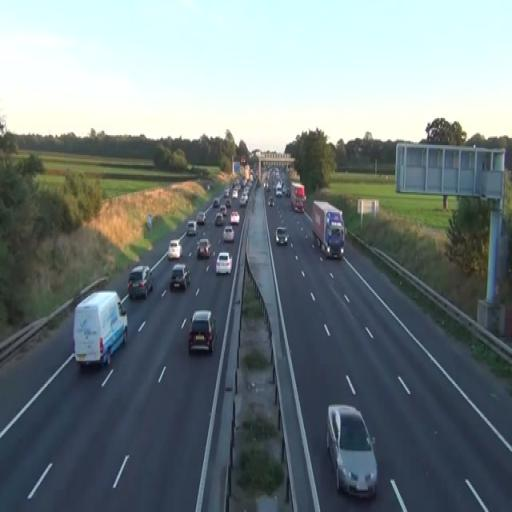Car: (326, 405, 378, 500), (187, 310, 218, 354), (128, 265, 154, 300), (170, 264, 191, 291), (216, 251, 232, 275), (196, 238, 212, 260), (168, 239, 182, 260), (275, 226, 289, 246), (222, 224, 234, 242), (187, 221, 197, 236), (230, 210, 240, 225)
Truck: (73, 290, 128, 368), (311, 200, 346, 259), (290, 182, 306, 212)
